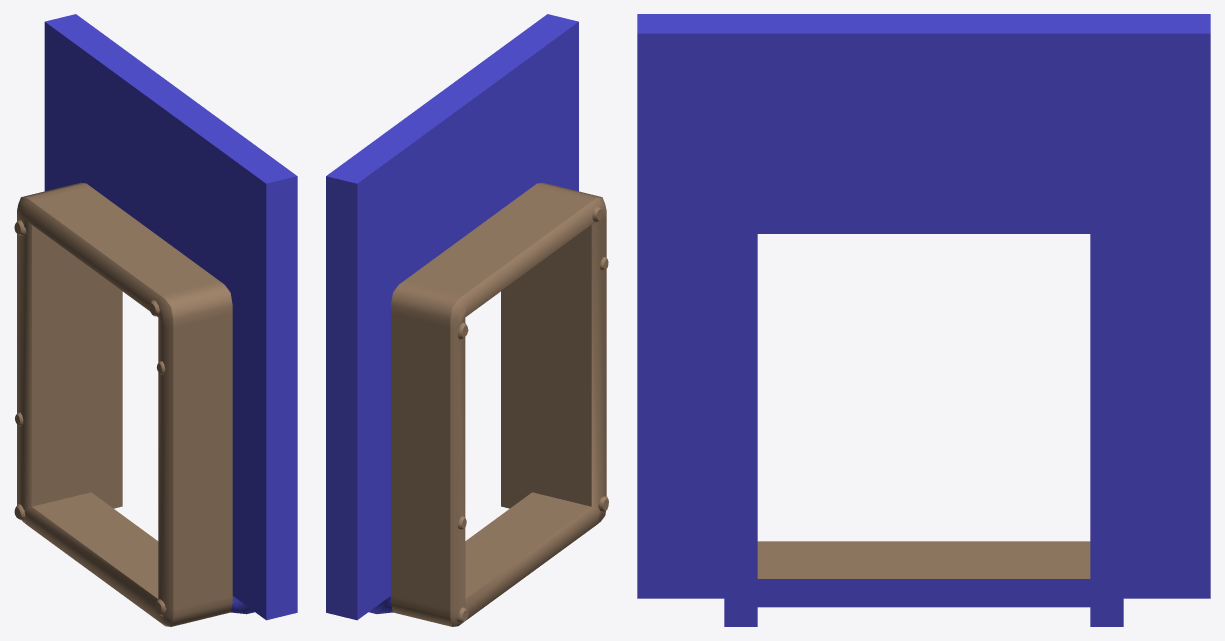
The model's file is SM_Porte_Aeration.fbx.
The picture shows the model from 3 angles, left to right: view 1: azimuth 30°, elevation 25°; view 2: azimuth 150°, elevation 25°; view 3: azimuth 270°, elevation 25°; orthographic projection. The views are drawn at different scales.
Visible parts, largest first — view 1: SM_Porte_Aeration; view 2: SM_Porte_Aeration; view 3: SM_Porte_Aeration.
Part boxes in pixels (box(x1,y1,x2,y2)): SM_Porte_Aeration: box(14, 14, 297, 626); SM_Porte_Aeration: box(326, 14, 608, 626); SM_Porte_Aeration: box(637, 14, 1210, 626).
Size of the model in its own units: 88.57 by 392 by 344.
